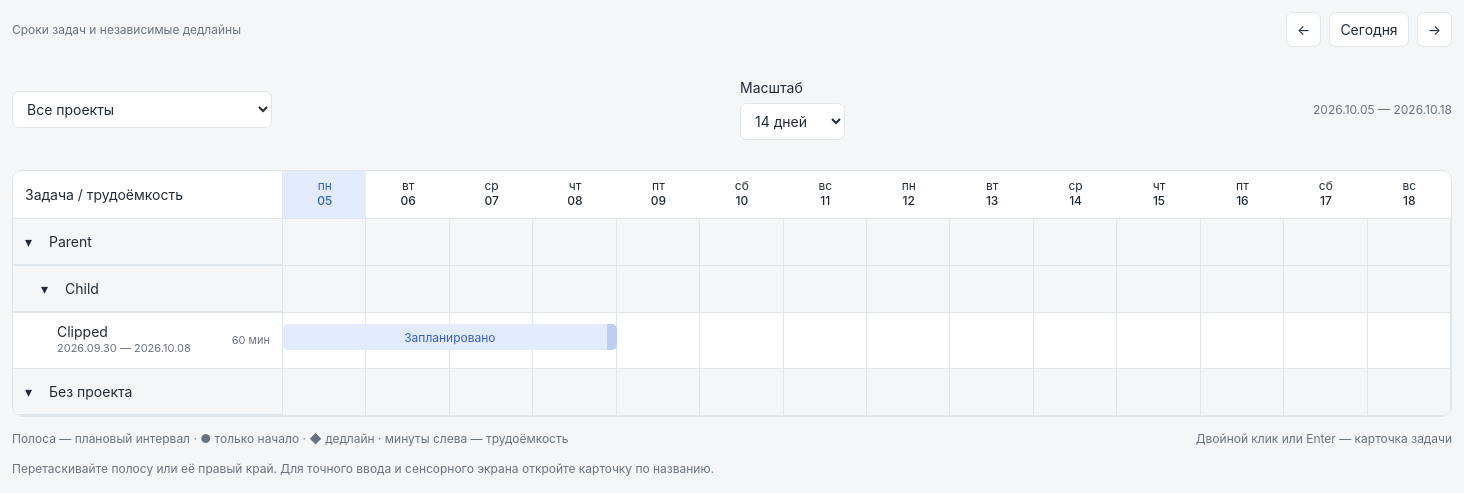
Scenario: moves a clipped interval using its full stored bounds
Press the mouse on the button "Запланировано" at (450, 337), box [283,324,617,350]
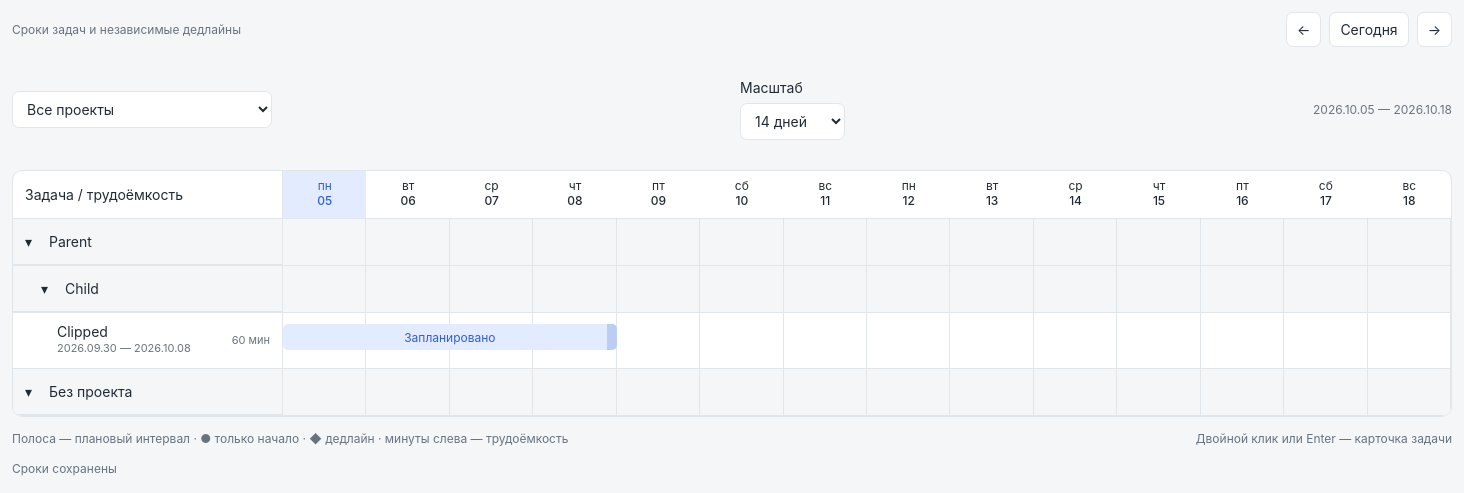
Expected: the text "Сроки сохранены" is shown, [12,461,117,476]
